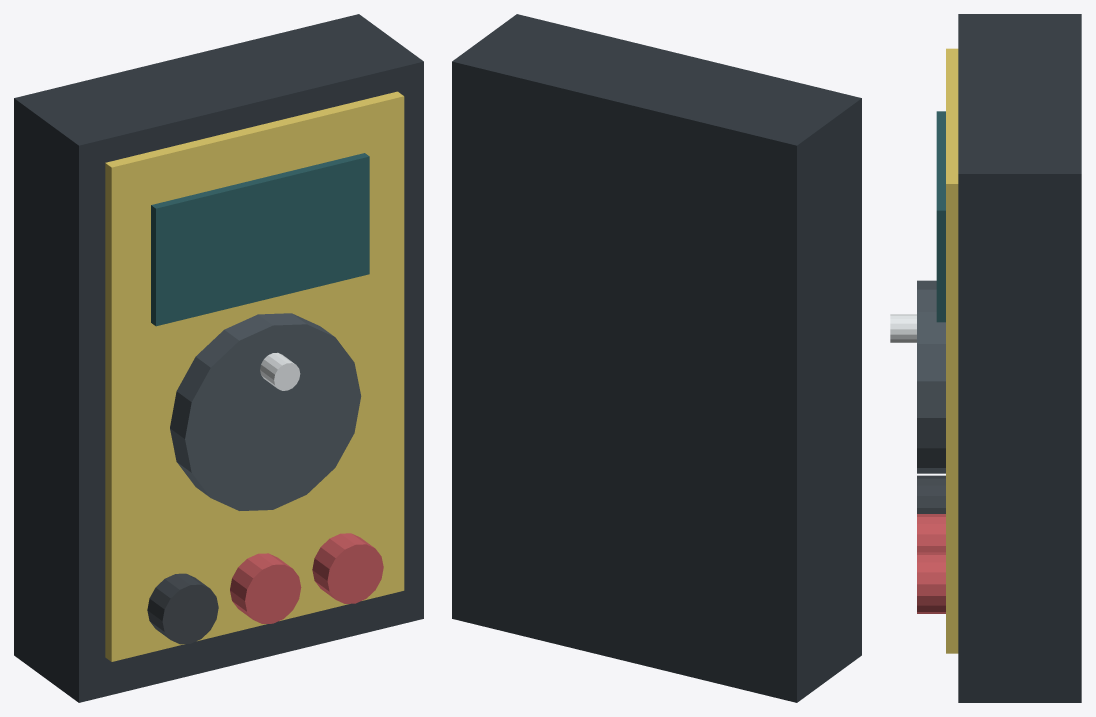
Rendered from multimeter_lod2.glb.
The picture shows the model from 3 angles, left to right: view 1: azimuth 30°, elevation 25°; view 2: azimuth 150°, elevation 25°; view 3: azimuth 270°, elevation 25°; orthographic projection. The views are drawn at different scales.
Visible parts, largest first — view 1: DMM_RUBBER_SHELL_MAT_RUBBER, DMM_BODY_MAT_YELLOW, DMM_DIAL_MAT_POLYMER_BLACK, DMM_SCREEN_MAT_EMISSIVE_SCREEN, DMM_PORT_2_MAT_RED, DMM_PORT_0_MAT_BLACK, DMM_PORT_1_MAT_RED, DMM_DIAL_POINTER_MAT_WHITE; view 2: DMM_RUBBER_SHELL_MAT_RUBBER; view 3: DMM_RUBBER_SHELL_MAT_RUBBER, DMM_BODY_MAT_YELLOW, DMM_DIAL_MAT_POLYMER_BLACK, DMM_SCREEN_MAT_EMISSIVE_SCREEN, DMM_PORT_2_MAT_RED, DMM_PORT_0_MAT_BLACK, DMM_PORT_1_MAT_RED, DMM_DIAL_POINTER_MAT_WHITE.
Part boxes in pixels (x1,y1,x2,y2): DMM_RUBBER_SHELL_MAT_RUBBER: (14, 14, 423, 702); DMM_BODY_MAT_YELLOW: (105, 91, 404, 661); DMM_DIAL_MAT_POLYMER_BLACK: (170, 313, 361, 510); DMM_SCREEN_MAT_EMISSIVE_SCREEN: (151, 153, 369, 326); DMM_PORT_2_MAT_RED: (312, 533, 383, 603); DMM_PORT_0_MAT_BLACK: (147, 573, 218, 644); DMM_PORT_1_MAT_RED: (230, 553, 301, 623); DMM_DIAL_POINTER_MAT_WHITE: (260, 352, 300, 390); DMM_RUBBER_SHELL_MAT_RUBBER: (452, 14, 861, 702); DMM_RUBBER_SHELL_MAT_RUBBER: (958, 14, 1081, 702); DMM_BODY_MAT_YELLOW: (946, 48, 958, 653); DMM_DIAL_MAT_POLYMER_BLACK: (917, 280, 945, 473); DMM_SCREEN_MAT_EMISSIVE_SCREEN: (936, 111, 945, 322); DMM_PORT_2_MAT_RED: (917, 552, 945, 613); DMM_PORT_0_MAT_BLACK: (917, 475, 945, 513); DMM_PORT_1_MAT_RED: (917, 514, 945, 552); DMM_DIAL_POINTER_MAT_WHITE: (890, 314, 916, 342).
Bounding box in the file's own units: 0.92 × 1.42 × 0.465.
